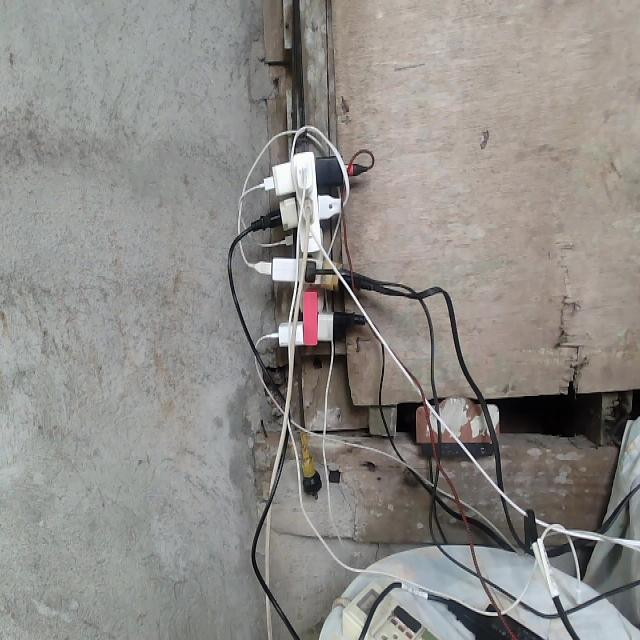-: (252, 147, 365, 350)
